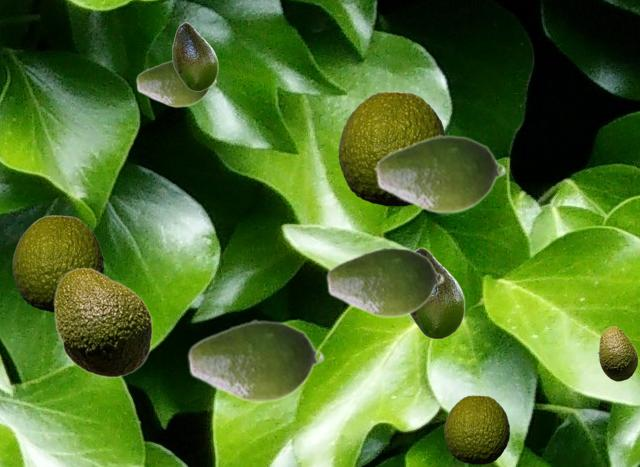avocado: (338, 91, 445, 205), (186, 318, 324, 403), (53, 267, 152, 377), (374, 133, 506, 214), (325, 245, 444, 318), (12, 215, 102, 311), (410, 247, 464, 338), (444, 395, 508, 463), (135, 58, 216, 107), (172, 22, 217, 90), (597, 326, 637, 380)
